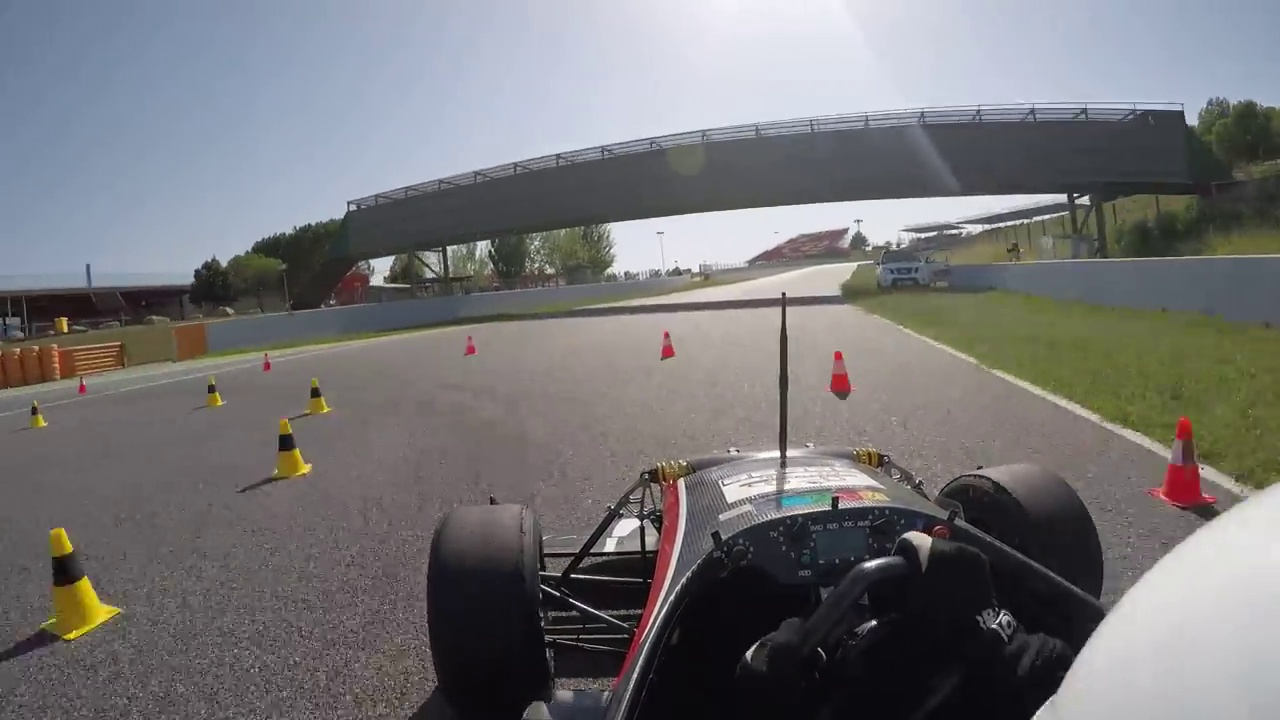Cone: (38, 526, 111, 641), (1154, 416, 1212, 509), (270, 418, 307, 482), (826, 350, 856, 397), (308, 372, 335, 416)
